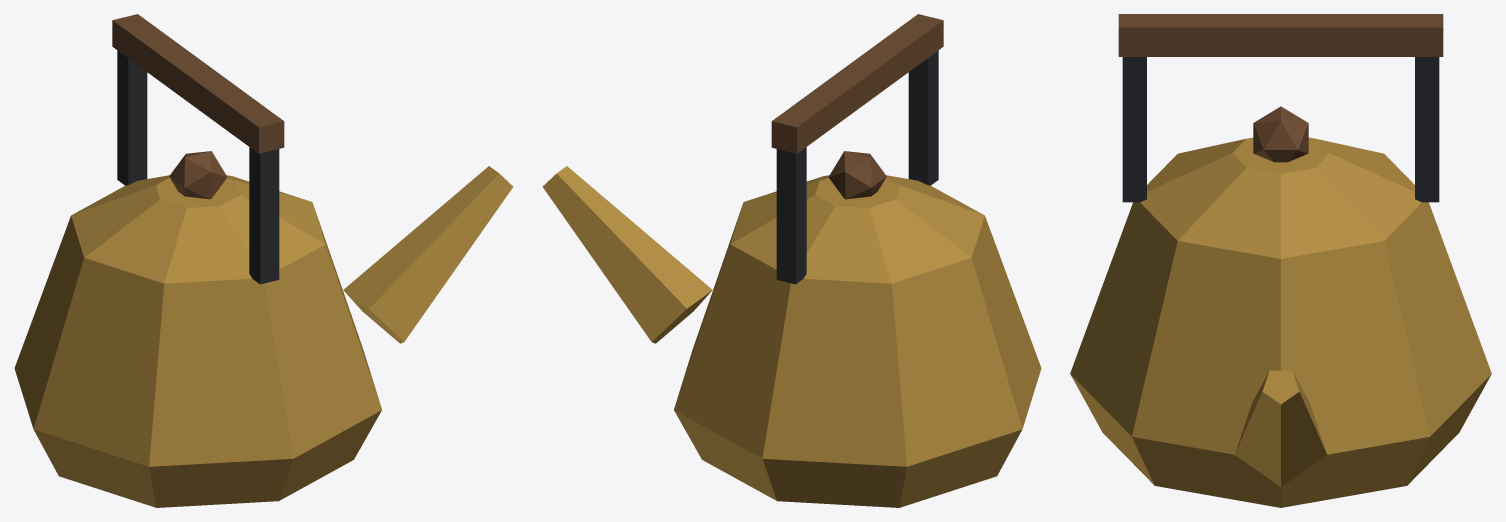
The model's file is brass_kettle.glb.
3 renders of one model, left to right at view 1: azimuth 30°, elevation 25°; view 2: azimuth 150°, elevation 25°; view 3: azimuth 270°, elevation 25°, orthographic. The views are drawn at different scales.
Visible parts, largest first — view 1: brass_kettle, lid; view 2: brass_kettle, lid; view 3: brass_kettle, lid.
Boxes of the visible parts, bbox=[...] form: brass_kettle: bbox=[14, 14, 513, 507]; lid: bbox=[71, 151, 325, 283]; brass_kettle: bbox=[542, 14, 1041, 507]; lid: bbox=[730, 151, 984, 283]; brass_kettle: bbox=[1070, 14, 1491, 507]; lid: bbox=[1140, 106, 1421, 258].
Bounding box in the file's own units: 0.3773 × 0.28 × 0.26.
